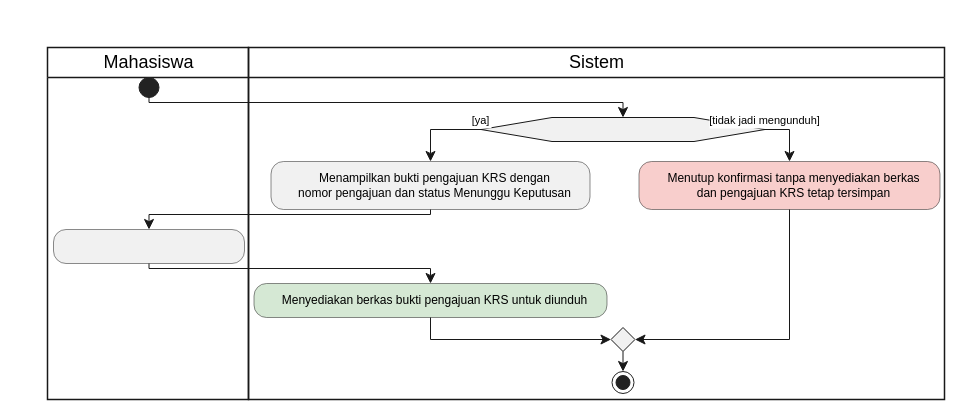
Some shapes in this 962 by 417 pixel diagram are drawn without their labels. The shapes that lost their labels are listed below. From the top down, each one's centre as x and y in pixels, then its label:
At (622,129): "Mahasiswa memilih unduh bukti pengajuan KRS?".
At (148,246): "Mengonfirmasi pengunduhan".
